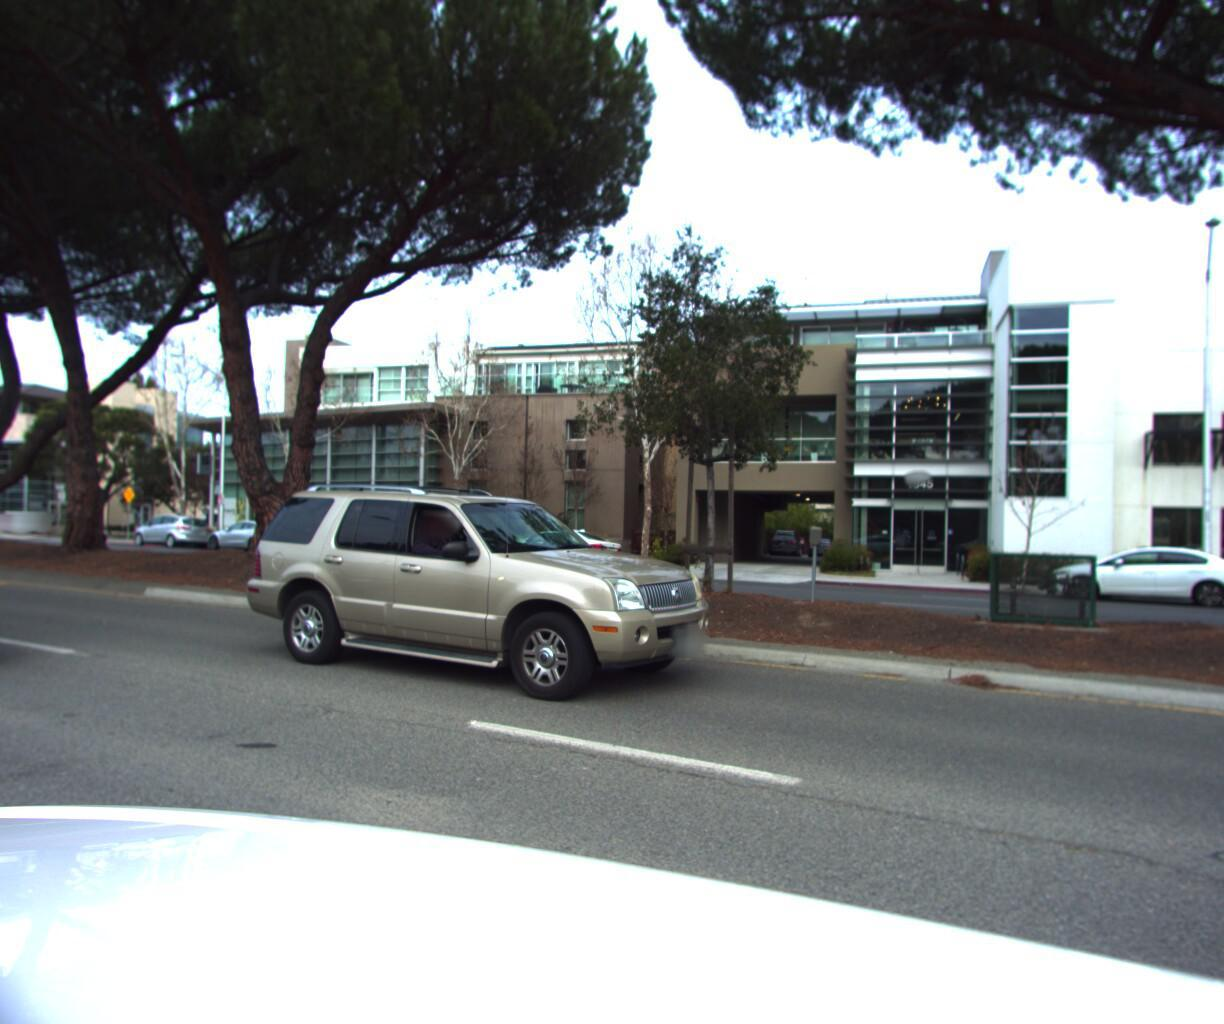car: (244, 474, 729, 712), (1029, 539, 1224, 613), (482, 525, 628, 574), (0, 454, 15, 708), (201, 521, 303, 558), (123, 517, 217, 553)
